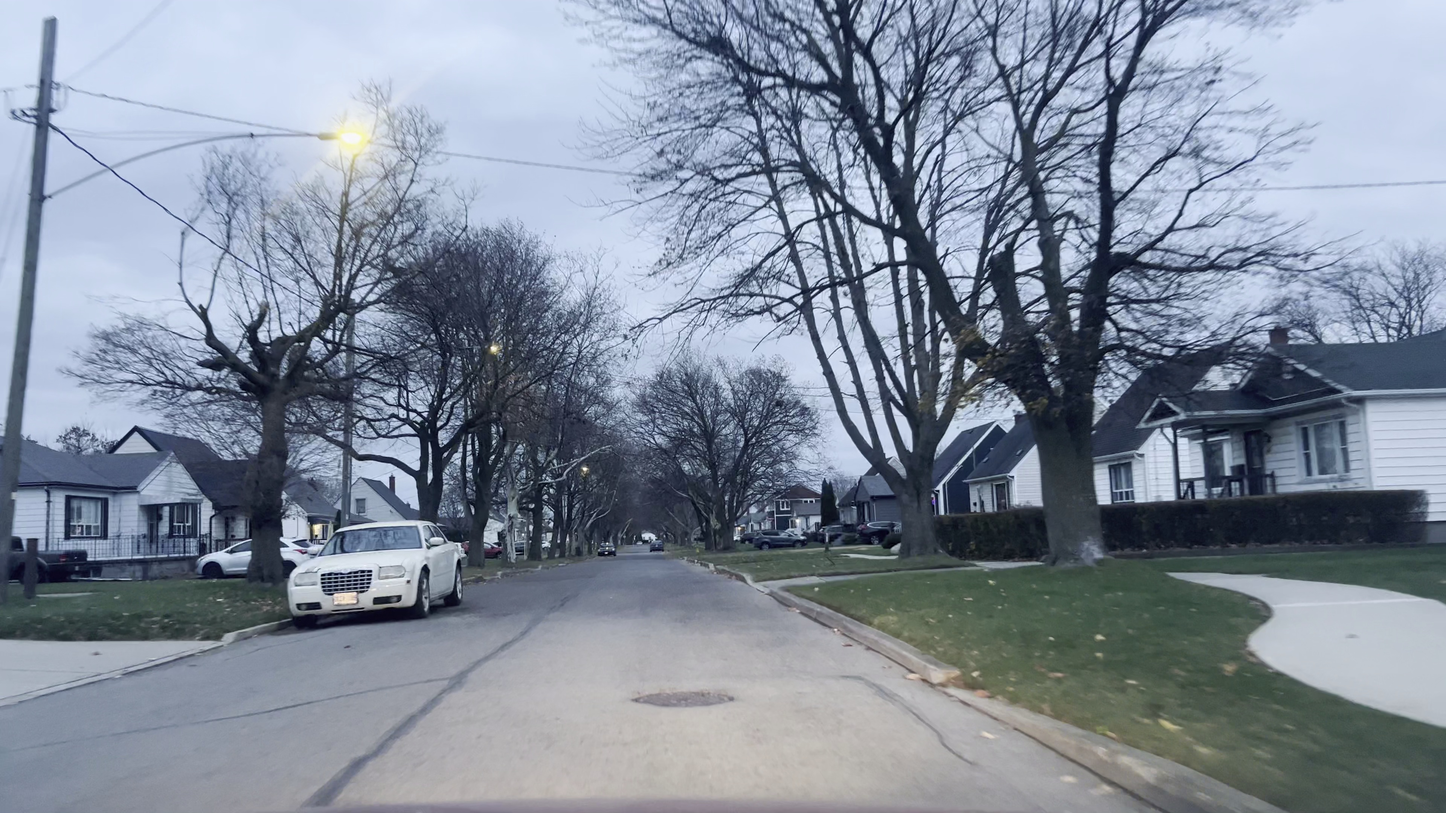cracks: (307, 683, 444, 808), (838, 668, 972, 770), (453, 613, 518, 689)
